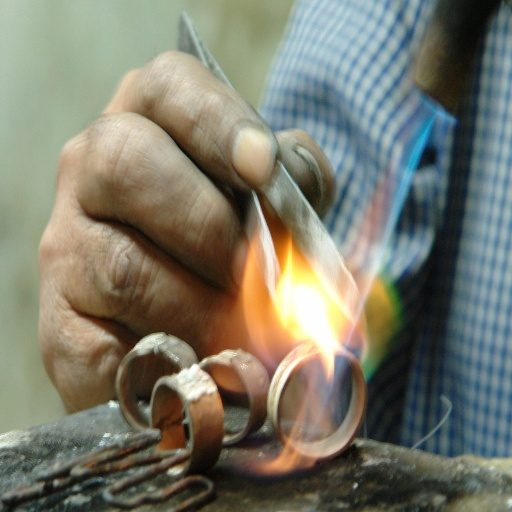hand: (27, 42, 315, 420)
